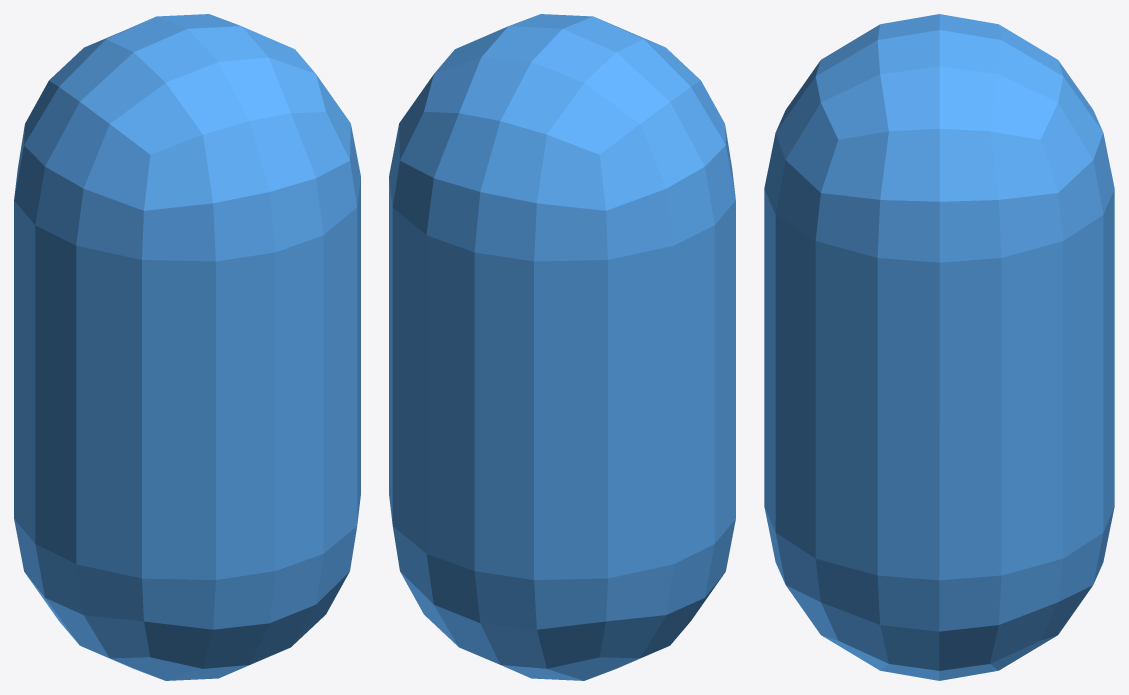
The model's file is PlayerMinion.fbx.
3 renders of one model, left to right at view 1: azimuth 30°, elevation 25°; view 2: azimuth 150°, elevation 25°; view 3: azimuth 270°, elevation 25°, orthographic.
Parts seen in each view (by area): view 1: Roundcube; view 2: Roundcube; view 3: Roundcube.
Boxes of the visible parts, <box> form: Roundcube: <box>14,14,360,680</box>; Roundcube: <box>389,14,735,680</box>; Roundcube: <box>764,14,1114,680</box>.
Size of the model in its own units: 60 by 120 by 60.
Materials: 1 (1 with a texture image).
